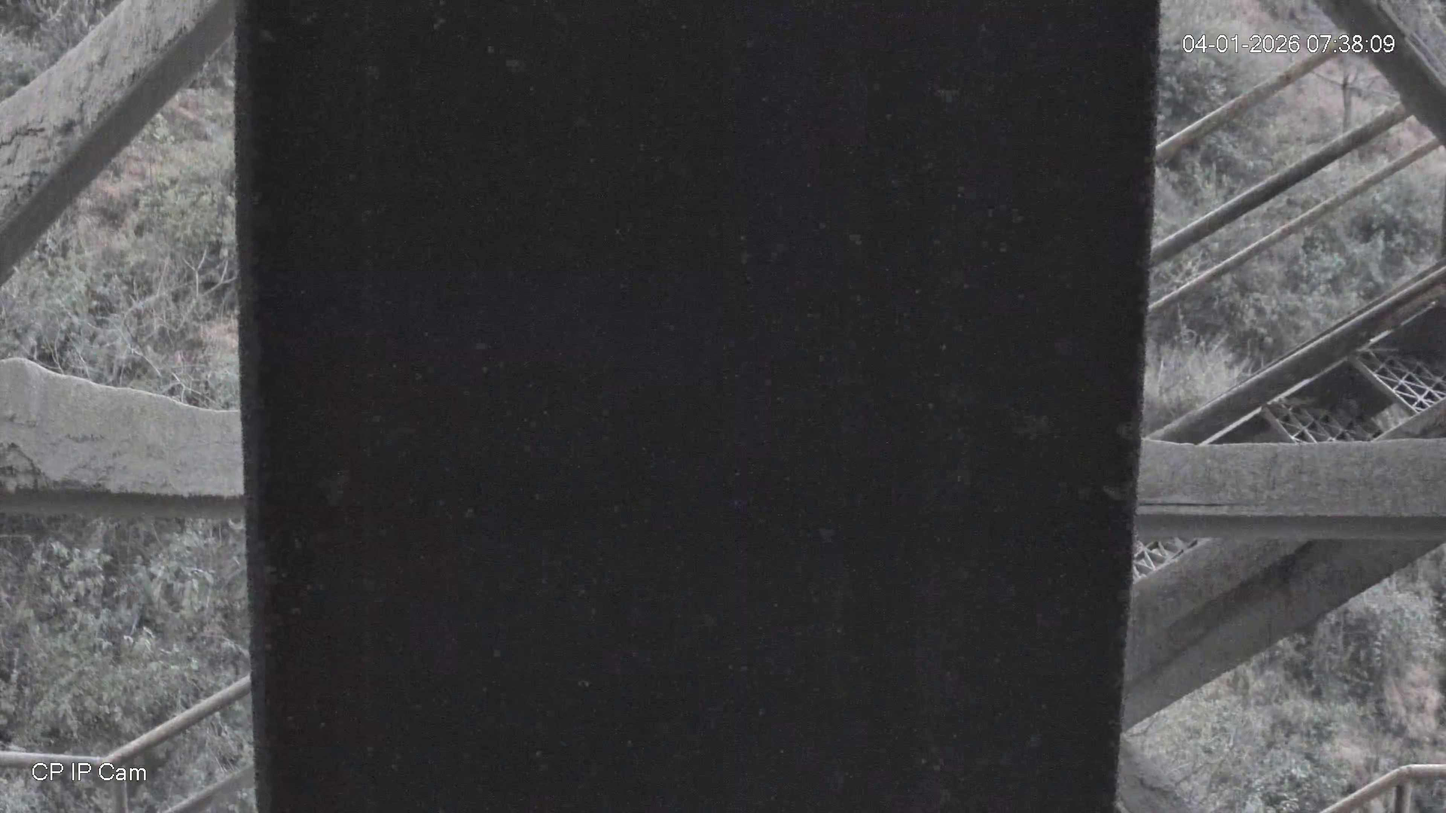belt_roi: (238, 0, 1159, 813)
